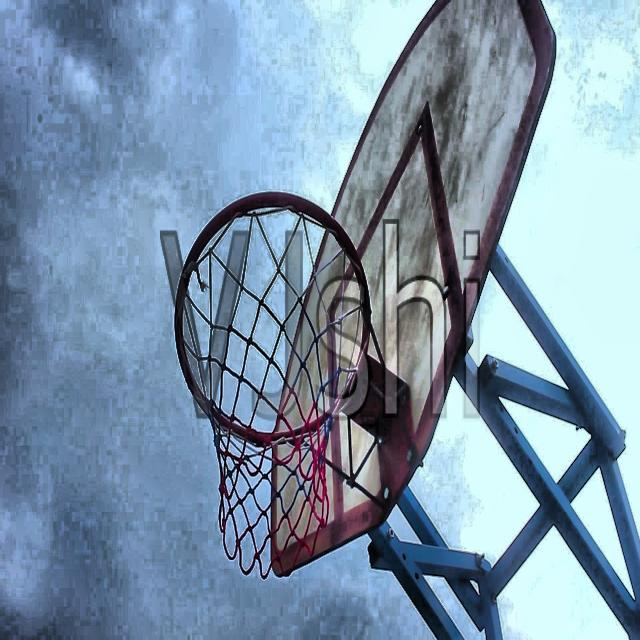rim: (174, 189, 374, 577)
